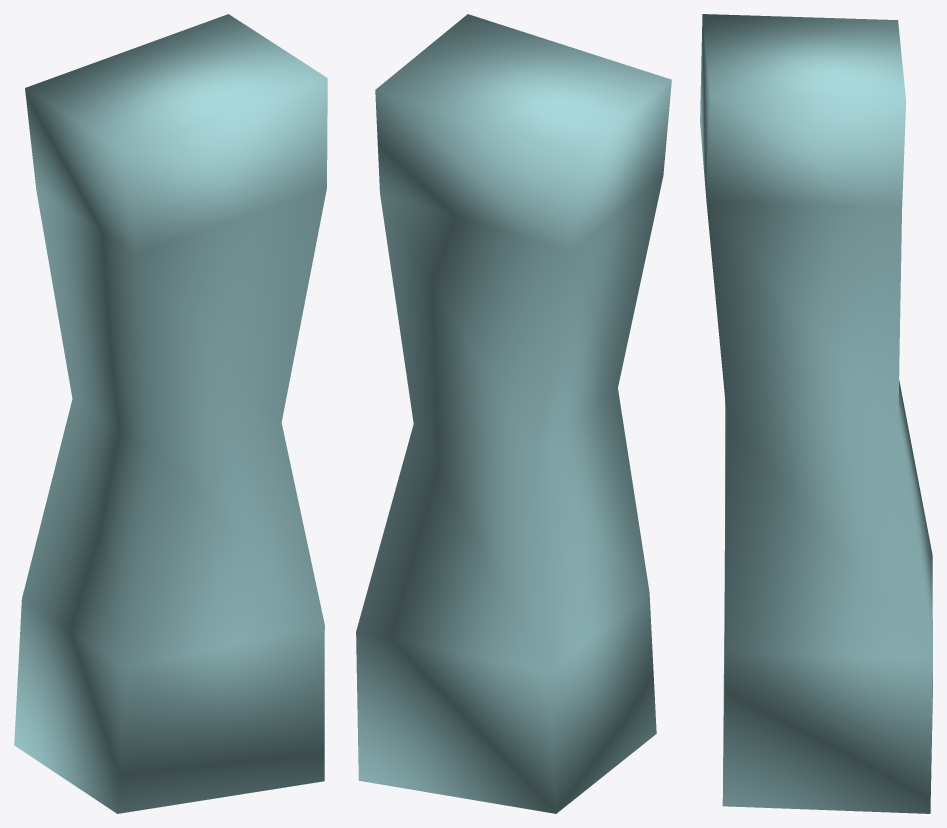
File: Skelly_f_ring.01.R.fbx
The picture shows the model from 3 angles, left to right: view 1: azimuth 30°, elevation 25°; view 2: azimuth 150°, elevation 25°; view 3: azimuth 270°, elevation 25°; orthographic projection. The views are drawn at different scales.
Visible parts, largest first — view 1: Skelly_f_ring.01.R; view 2: Skelly_f_ring.01.R; view 3: Skelly_f_ring.01.R.
Boxes of the visible parts, bbox=[...] form: Skelly_f_ring.01.R: bbox=[14, 14, 327, 813]; Skelly_f_ring.01.R: bbox=[356, 14, 671, 813]; Skelly_f_ring.01.R: bbox=[700, 14, 932, 813].
Size of the model in its own units: 1.51 by 4.83 by 1.42.
